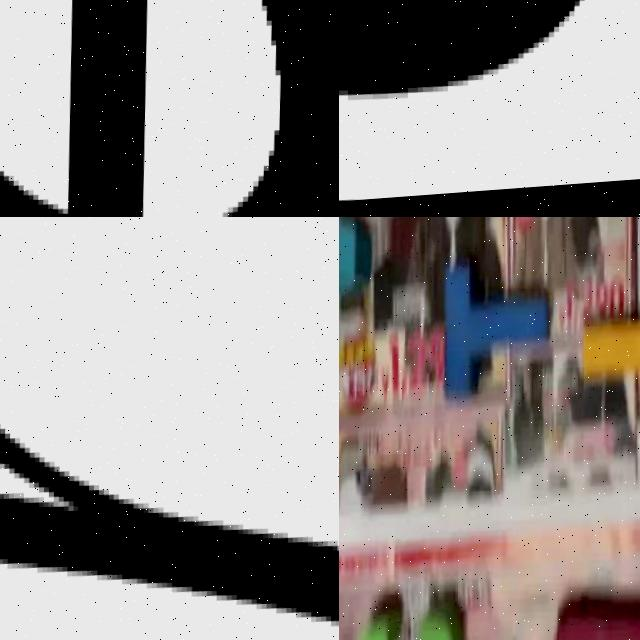E: (339, 0, 587, 99)
L: (575, 235, 640, 386)
R: (0, 264, 339, 640)
T: (433, 254, 554, 405)
